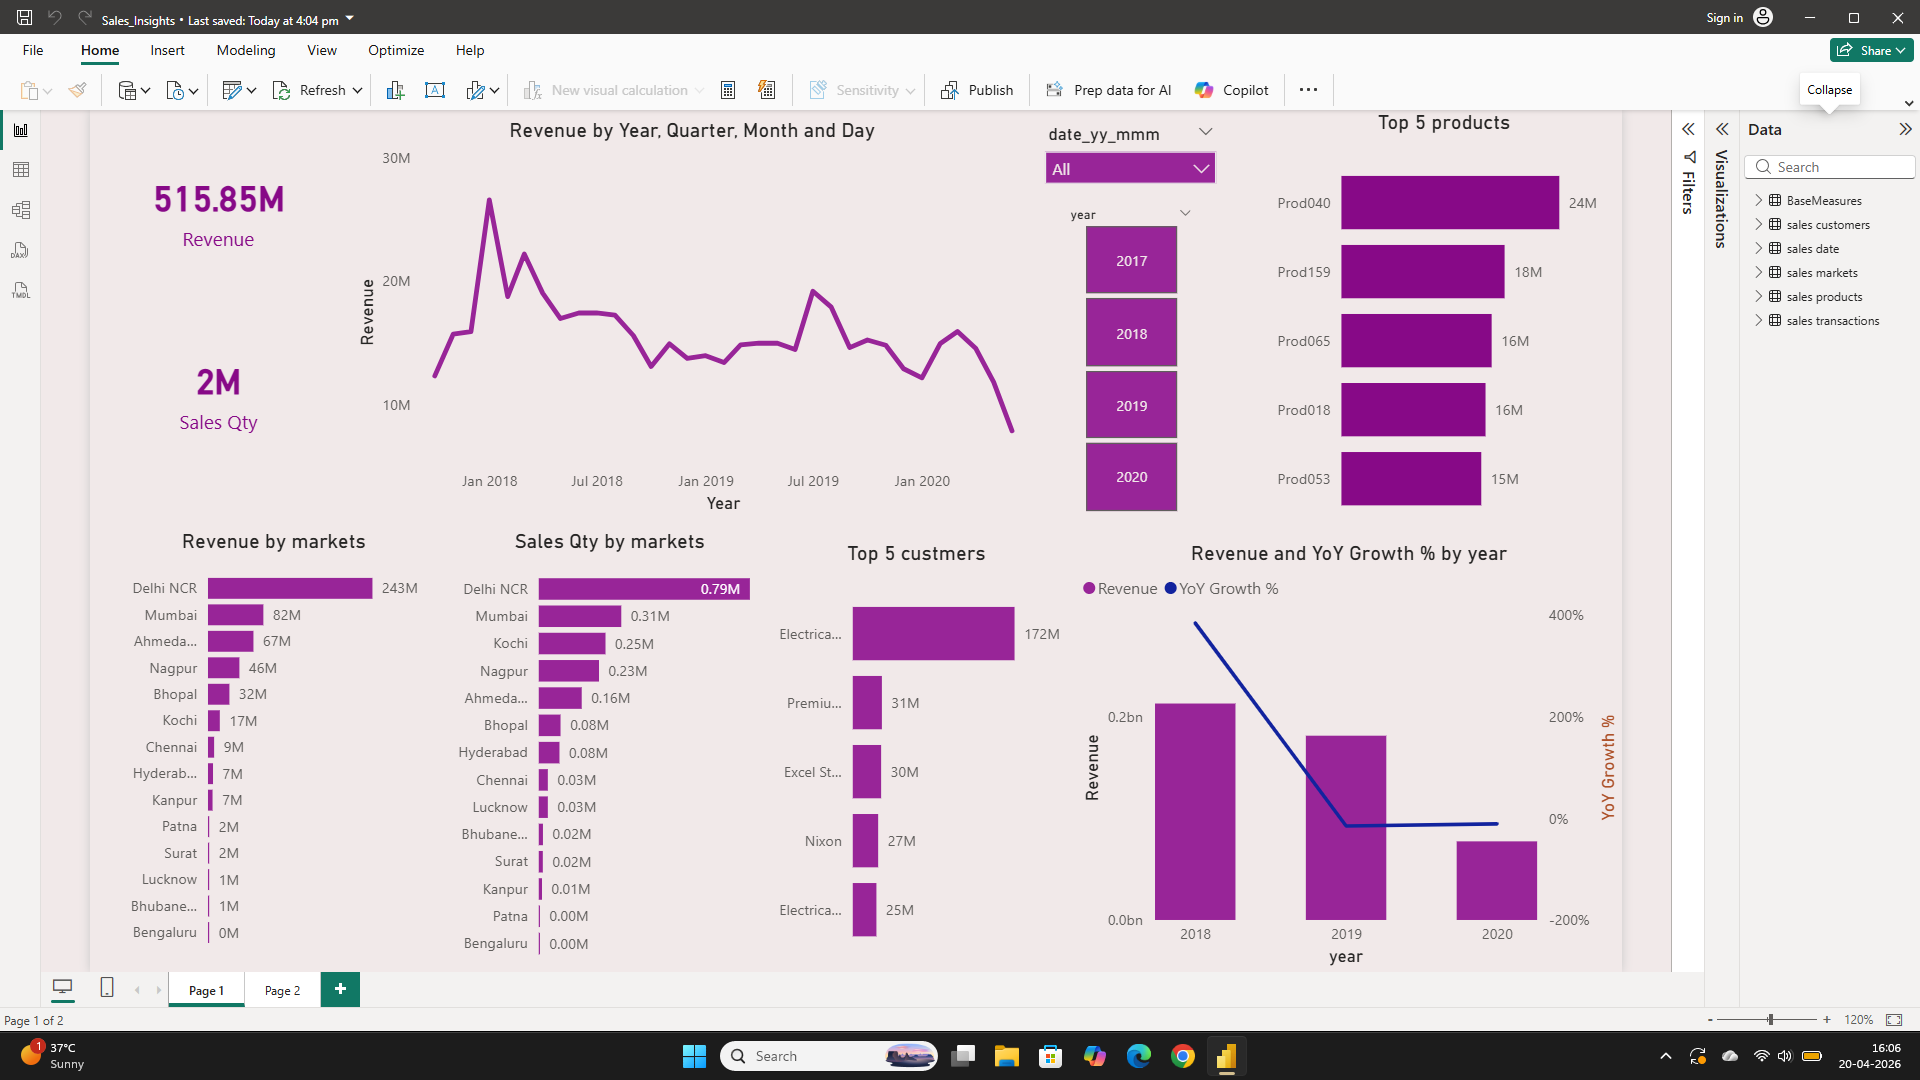

This screenshot's page, from the dashboard's own definition file:
{"tool":"powerbi","page":{"name":"Page 1","canvas":[1280,720],"ordinal":0},"visuals":[{"type":"card","fields":{"Values":["BaseMeasures.Revenue"]},"box":[7.1,16,201.3,133.9],"z":0},{"type":"card","fields":{"Values":["BaseMeasures.Sales Qty"]},"box":[7.1,168.5,201.3,133.9],"z":1000},{"type":"barChart","title":"Revenue by markets","fields":{"Y":["BaseMeasures.Revenue"],"Category":["sales markets.markets_name"]},"box":[17.5,350.2,272.3,359.9],"z":2000},{"type":"barChart","title":"Sales Qty by markets","fields":{"Y":["BaseMeasures.Sales Qty"],"Category":["sales markets.markets_name"]},"box":[289.8,350.2,288.9,369.6],"z":3000},{"type":"slicer","fields":{"Values":["sales date.year"]},"box":[806.3,75.9,126.4,265.5],"z":4000},{"type":"slicer","fields":{"Values":["sales date.date_yy_mmm"]},"box":[787.8,6.8,163.4,75.9],"z":5000},{"type":"barChart","title":"Top 5 custmers","fields":{"Category":["sales customers.custmer_name"],"Y":["BaseMeasures.Revenue"]},"box":[557.3,359.9,266.5,359.9],"z":6000},{"type":"barChart","title":"Top 5 products","fields":{"Y":["BaseMeasures.Revenue"],"Category":["sales products.product_code"]},"box":[982.4,0,297.6,359.9],"z":7000},{"type":"lineChart","fields":{"Y":["BaseMeasures.Revenue"],"Category":["sales date.cy_date.Variation.Date Hierarchy.Year","sales date.cy_date.Variation.Date Hierarchy.Quarter","sales date.cy_date.Variation.Date Hierarchy.Month","sales date.cy_date.Variation.Date Hierarchy.Day"]},"box":[218.1,7.1,570.1,334.3],"z":8000},{"type":"lineStackedColumnComboChart","fields":{"Category":["sales date.year"],"Y":["BaseMeasures.Revenue"],"Y2":["BaseMeasures.YoY Growth %"]},"box":[823.8,359.9,456.2,359.9],"z":9000}]}

Visuals, with their boxes on the page's 1280x720 design canvas (x1, y1, x2, y2). These are canvas units, not pixel positions in the 1920x1080 screenshot, which may show the page scaled, cropped or inside an application window:
card - BaseMeasures.Revenue: select_region(7, 16, 208, 150)
card - BaseMeasures.Sales Qty: select_region(7, 168, 208, 302)
"Revenue by markets" barChart: select_region(18, 350, 290, 710)
"Sales Qty by markets" barChart: select_region(290, 350, 579, 720)
slicer - sales date.year: select_region(806, 76, 933, 341)
slicer - sales date.date_yy_mmm: select_region(788, 7, 951, 83)
"Top 5 custmers" barChart: select_region(557, 360, 824, 720)
"Top 5 products" barChart: select_region(982, 0, 1280, 360)
lineChart - BaseMeasures.Revenue x sales date.cy_date.Variation.Date Hierarchy.Year: select_region(218, 7, 788, 341)
lineStackedColumnComboChart - sales date.year x BaseMeasures.Revenue: select_region(824, 360, 1280, 720)
